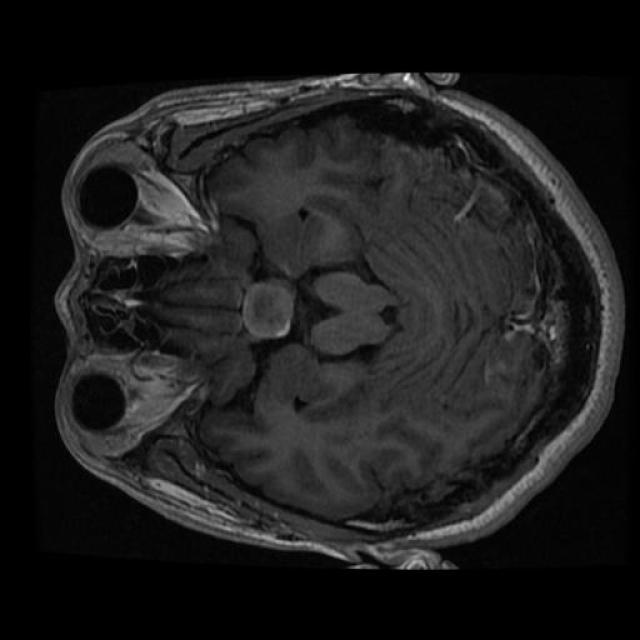Pituitary: (242, 281, 295, 341)
